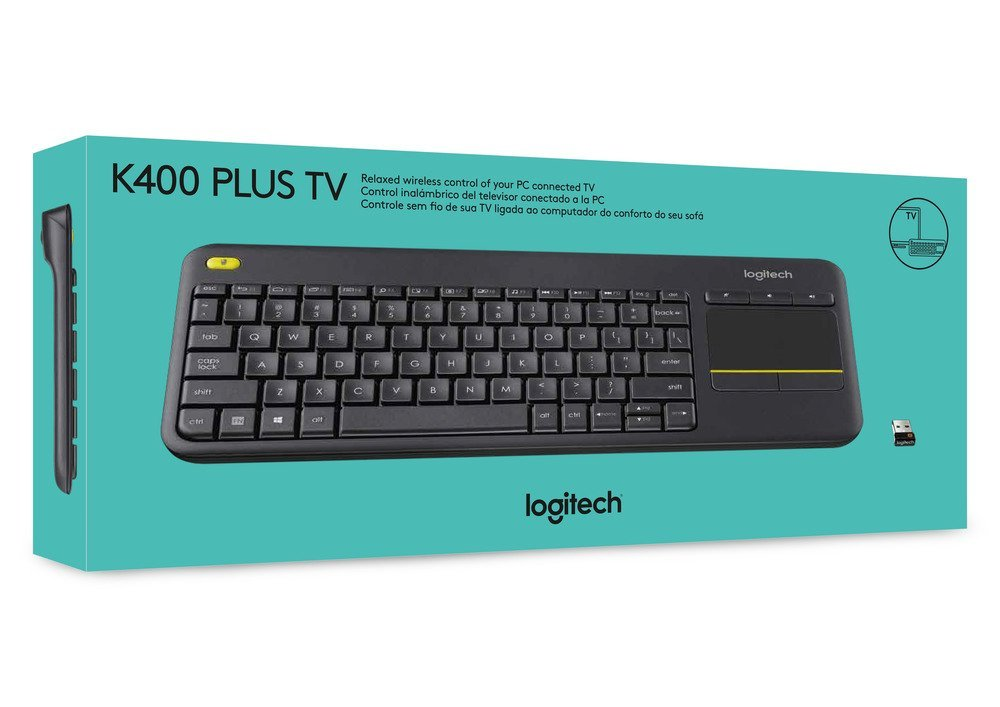logitech-keyboard-k400: (155, 251, 855, 468)
